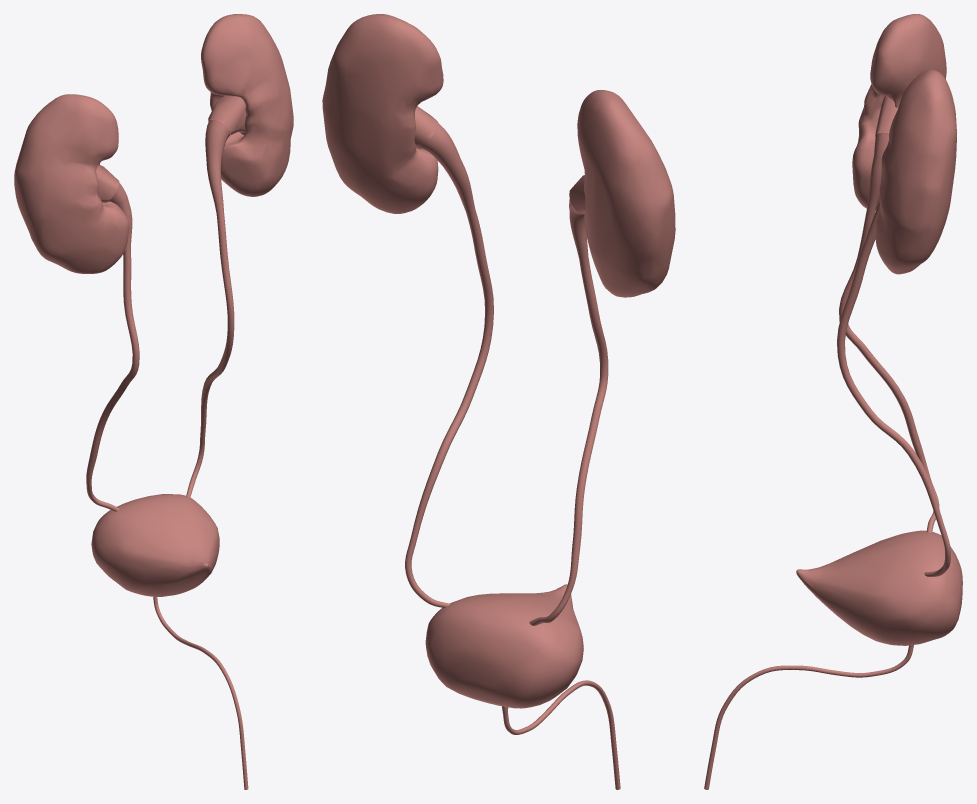
Rendered from urinary.glb.
3 views of the same model, side by side, from view 1: azimuth 30°, elevation 25°; view 2: azimuth 150°, elevation 25°; view 3: azimuth 270°, elevation 25° (orthographic). The views are drawn at different scales.
Parts seen in each view (by area): view 1: URI.kidney.R, URI.kidney.L, URI.urinary_bladder.C, URI.ureter.L, URI.ureter.R, URI.urethra.C, URI.renal_pelvis.L, URI.renal_pelvis.R; view 2: URI.kidney.L, URI.kidney.R, URI.urinary_bladder.C, URI.ureter.L, URI.ureter.R, URI.urethra.C, URI.renal_pelvis.L; view 3: URI.urinary_bladder.C, URI.kidney.L, URI.kidney.R, URI.ureter.L, URI.ureter.R, URI.urethra.C, URI.renal_pelvis.R.
Part boxes in pixels (bbox=[...]): URI.kidney.R: bbox=[14, 94, 129, 273]; URI.kidney.L: bbox=[201, 14, 293, 196]; URI.urinary_bladder.C: bbox=[91, 494, 219, 596]; URI.ureter.L: bbox=[186, 120, 234, 497]; URI.ureter.R: bbox=[86, 183, 139, 511]; URI.urethra.C: bbox=[153, 597, 248, 789]; URI.renal_pelvis.L: bbox=[208, 96, 246, 135]; URI.renal_pelvis.R: bbox=[96, 165, 119, 202]; URI.kidney.L: bbox=[322, 14, 443, 213]; URI.kidney.R: bbox=[577, 90, 675, 297]; URI.urinary_bladder.C: bbox=[425, 584, 583, 708]; URI.ureter.L: bbox=[405, 123, 493, 607]; URI.ureter.R: bbox=[529, 198, 608, 625]; URI.urethra.C: bbox=[502, 680, 620, 789]; URI.renal_pelvis.L: bbox=[414, 106, 438, 149]; URI.urinary_bladder.C: bbox=[796, 530, 962, 645]; URI.kidney.L: bbox=[875, 69, 956, 274]; URI.kidney.R: bbox=[852, 14, 946, 210]; URI.ureter.L: bbox=[837, 202, 950, 576]; URI.ureter.R: bbox=[839, 132, 939, 532]; URI.urethra.C: bbox=[704, 645, 913, 789]; URI.renal_pelvis.R: bbox=[875, 96, 898, 137].
Bounding box in the file's own units: 0.178 × 0.4203 × 0.1293.
